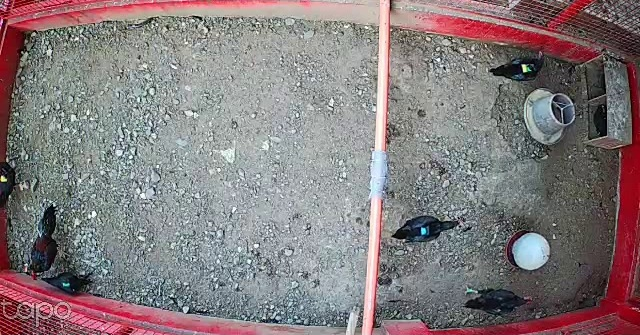Chicken: (460, 280, 535, 315), (388, 214, 459, 246), (39, 264, 97, 296), (489, 51, 547, 83)
Rooster: (26, 200, 69, 286)
Saddle_Color_Blue: (418, 226, 430, 236)
Saddle_Color_YellowGreen: (520, 62, 533, 74)
